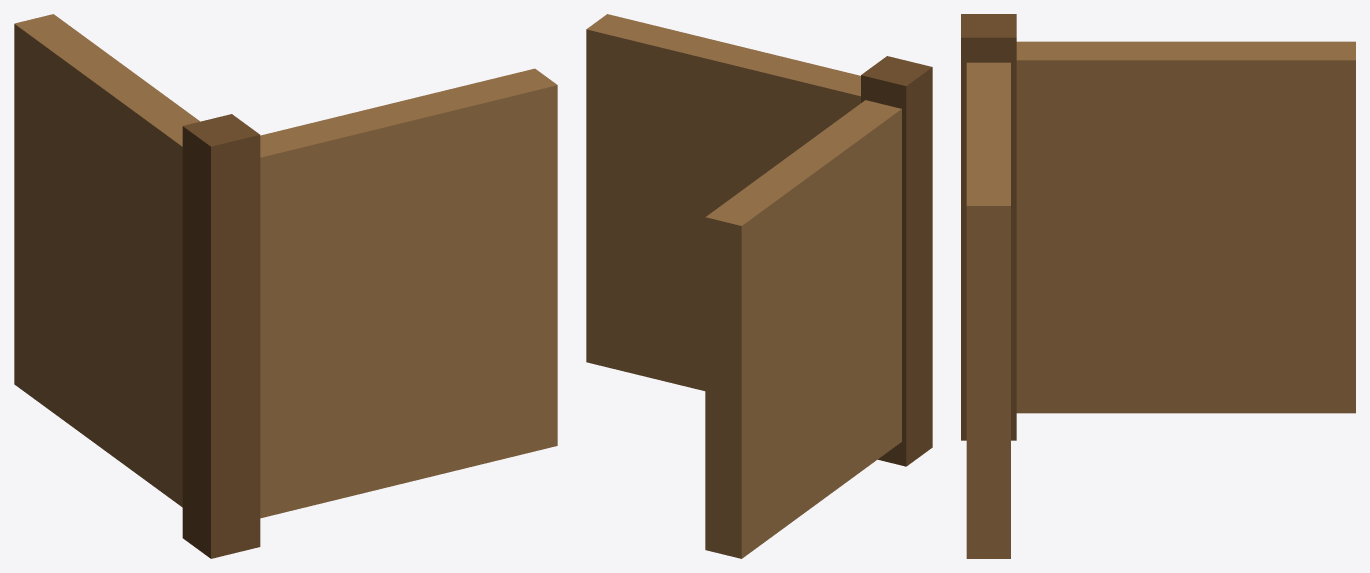
The model's file is poi_tagged_crate_piece_a.glb.
3 views of the same model, side by side, from view 1: azimuth 30°, elevation 25°; view 2: azimuth 150°, elevation 25°; view 3: azimuth 270°, elevation 25° (orthographic). The views are drawn at different scales.
Parts seen in each view (by area): view 1: TaggedCratePieceA; view 2: TaggedCratePieceA; view 3: TaggedCratePieceA.
Boxes of the visible parts, x1=… form: TaggedCratePieceA: x1=14, y1=14, x2=557, y2=558; TaggedCratePieceA: x1=586, y1=14, x2=932, y2=558; TaggedCratePieceA: x1=961, y1=14, x2=1355, y2=558.
Size of the model in its own units: 0.71 by 0.8 by 0.71.
